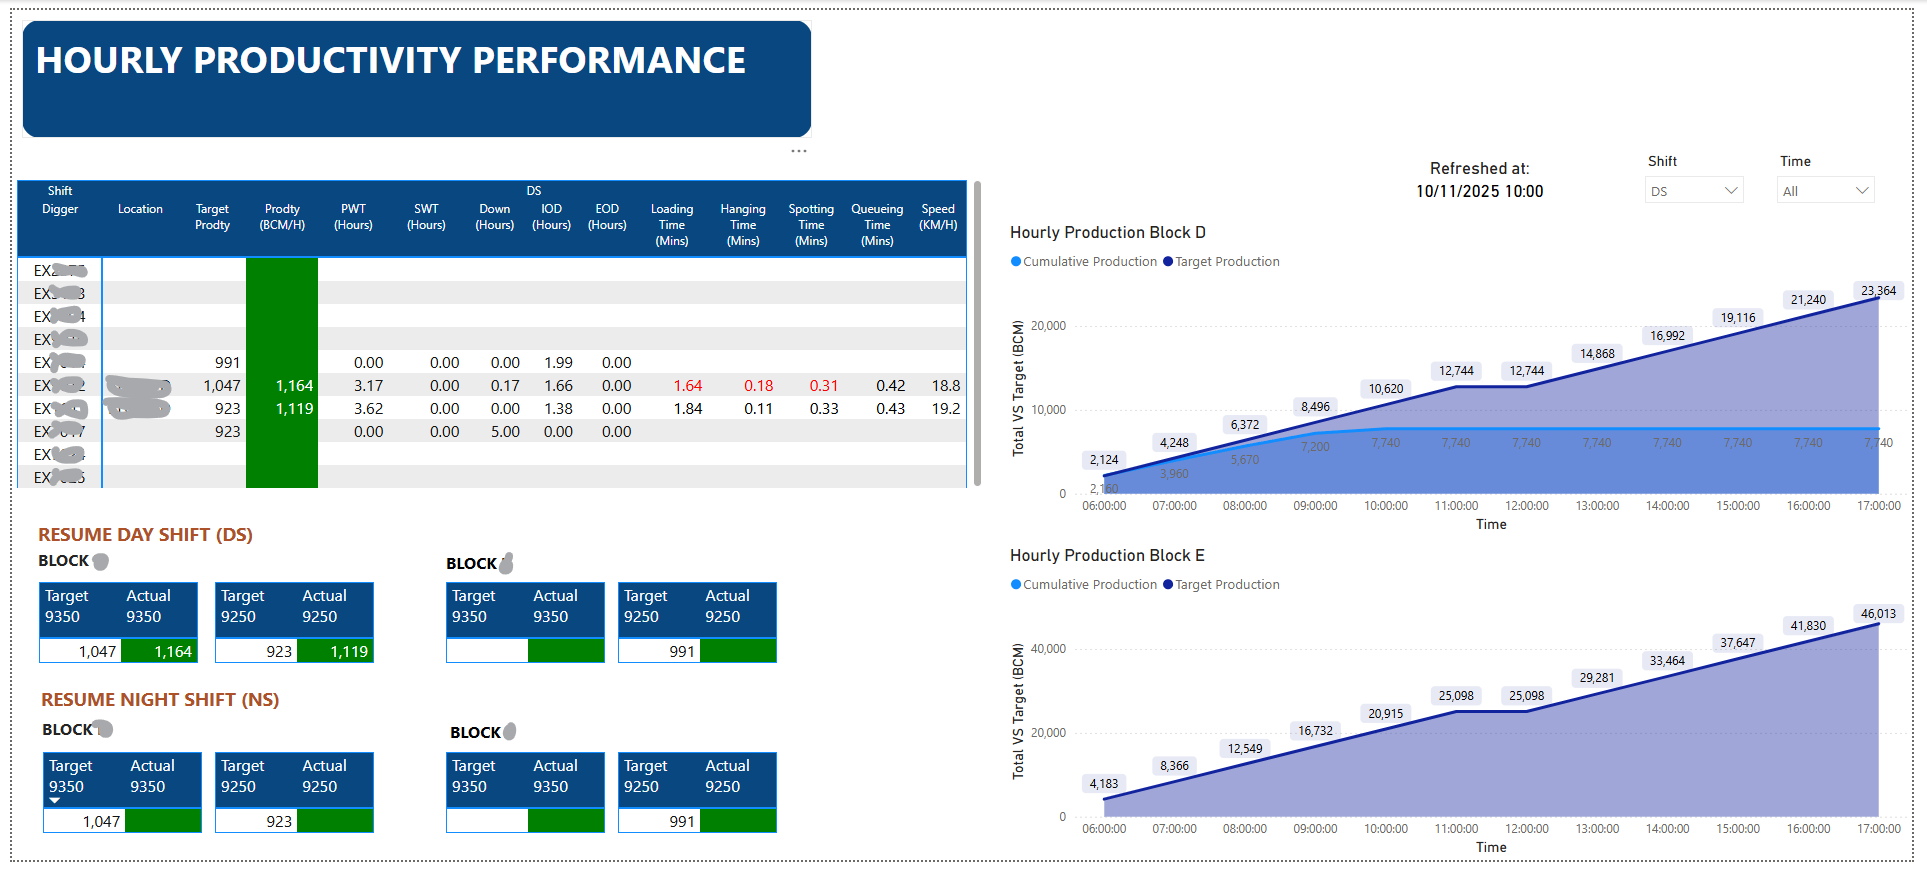

The page's visual inventory and layout, read from the dashboard file:
{"tool":"powerbi","page":{"name":"1.1. SUMMARY PRODUCTIVITY DIGGER PERFORMANCE","canvas":[1900,850],"ordinal":0},"visuals":[{"type":"pivotTable","fields":{"Values":["Max(Thiess_Hourly_Performance.Location)","Sum(Taret_Site_Commercial.Target_Site)","Thiess_Hourly_Performance.PRODTY (BCM/H)","Sum(Thiess_Hourly_Performance.WT)","Sum(Thiess_Hourly_Performance.SWT)","Sum(Thiess_Hourly_Performance.DOWN)","Sum(Thiess_Hourly_Performance.IOD)","Sum(Thiess_Hourly_Performance.EOD)","Thiess_Hourly_Performance.LOADING_TIME (MINS)","Thiess_Hourly_Performance.HANGING_TIME (MINS)","Thiess_Hourly_Performance.SPOTTING_TIME (MINS)","Thiess_Hourly_Performance.QUEUEING_TIME (MINS)"],"Rows":["Bridge_Digger.Digger"],"Columns":["Bridge_Shift.ShiftIdent"]},"box":[0,165,975,318.3],"z":1000},{"type":"textbox","box":[10,10,790,118],"z":2000},{"type":"slicer","fields":{"Values":["Bridge_Shift.ShiftIdent"]},"box":[1623.3,138.3,118.3,70],"z":3000},{"type":"slicer","fields":{"Values":["Bridge_Time.Time"]},"box":[1755,138.3,118.3,70],"z":4000},{"type":"card","title":"Refreshed at:","fields":{"Values":["Max(Thiess_Hourly_Performance.Datetime)"]},"box":[1311.7,148.3,311.7,48.3],"z":5000},{"type":"areaChart","title":"Hourly Production Block D","fields":{"Category":["Bridge_Time.TimeF"],"Y":["Thiess_Hourly_Performance.Cumulative Production","Target_Production.TARGET PROD HOURLY"]},"box":[993.3,211.7,906.7,315],"z":6000},{"type":"areaChart","title":"Hourly Production Block E","fields":{"Category":["Bridge_Time.TimeF"],"Y":["Thiess_Hourly_Performance.Cumulative Production","Target_Production.TARGET PROD HOURLY"]},"box":[993.3,535,906.7,315],"z":7000},{"type":"textbox","box":[20.9,505.9,257.1,37.1],"z":8000},{"type":"tableEx","fields":{"Values":["Avg(Taret_Site_Commercial.Target_Site)","Thiess_Hourly_Performance.PRODTY (BCM/H)"]},"box":[20.9,567.3,172.9,105.7],"z":9000},{"type":"textbox","box":[24.3,670.9,311.7,38.3],"z":10000},{"type":"textbox","box":[20.9,533.8,101.2,33.8],"z":11000},{"type":"textbox","box":[428.8,536.8,242.9,35.7],"z":12000},{"type":"textbox","box":[24.8,702.8,101.2,33.8],"z":13000},{"type":"textbox","box":[432.6,705.8,242.9,35.7],"z":14000},{"type":"tableEx","fields":{"Values":["Avg(Taret_Site_Commercial.Target_Site)","Thiess_Hourly_Performance.PRODTY (BCM/H)"]},"box":[196.7,566.7,171.7,106.7],"z":15000},{"type":"tableEx","fields":{"Values":["Avg(Taret_Site_Commercial.Target_Site)","Thiess_Hourly_Performance.PRODTY (BCM/H)"]},"box":[25,736.7,171.7,106.7],"z":16000},{"type":"tableEx","fields":{"Values":["Avg(Taret_Site_Commercial.Target_Site)","Thiess_Hourly_Performance.PRODTY (BCM/H)"]},"box":[196.7,736.7,171.7,106.7],"z":17000},{"type":"tableEx","fields":{"Values":["Avg(Taret_Site_Commercial.Target_Site)","Thiess_Hourly_Performance.PRODTY (BCM/H)"]},"box":[428.3,566.7,171.7,106.7],"z":18000},{"type":"tableEx","fields":{"Values":["Avg(Taret_Site_Commercial.Target_Site)","Thiess_Hourly_Performance.PRODTY (BCM/H)"]},"box":[600,566.7,171.7,106.7],"z":19000},{"type":"tableEx","fields":{"Values":["Avg(Taret_Site_Commercial.Target_Site)","Thiess_Hourly_Performance.PRODTY (BCM/H)"]},"box":[428.3,736.7,171.7,106.7],"z":20000},{"type":"tableEx","fields":{"Values":["Avg(Taret_Site_Commercial.Target_Site)","Thiess_Hourly_Performance.PRODTY (BCM/H)"]},"box":[600,736.7,171.7,106.7],"z":21000}]}

Visuals, with their boxes in screenshot pixels (x1, y1, x2, y2), scaled from the page's 1900x850 canvas onto the 1927x874 screenshot:
pivotTable - Max(Thiess_Hourly_Performance.Location) x Sum(Taret_Site_Commercial.Target_Site): rect(0, 170, 989, 497)
textbox: rect(10, 10, 811, 132)
slicer - Bridge_Shift.ShiftIdent: rect(1646, 142, 1766, 214)
slicer - Bridge_Time.Time: rect(1780, 142, 1900, 214)
"Refreshed at:" card: rect(1330, 152, 1646, 202)
"Hourly Production Block D" areaChart: rect(1007, 218, 1926, 542)
"Hourly Production Block E" areaChart: rect(1007, 550, 1926, 873)
textbox: rect(21, 520, 282, 558)
tableEx - Avg(Taret_Site_Commercial.Target_Site) x Thiess_Hourly_Performance.PRODTY (BCM/H): rect(21, 583, 197, 692)
textbox: rect(25, 690, 341, 729)
textbox: rect(21, 549, 124, 584)
textbox: rect(435, 552, 681, 589)
textbox: rect(25, 723, 128, 757)
textbox: rect(439, 726, 685, 762)
tableEx - Avg(Taret_Site_Commercial.Target_Site) x Thiess_Hourly_Performance.PRODTY (BCM/H): rect(199, 583, 374, 692)
tableEx - Avg(Taret_Site_Commercial.Target_Site) x Thiess_Hourly_Performance.PRODTY (BCM/H): rect(25, 758, 199, 867)
tableEx - Avg(Taret_Site_Commercial.Target_Site) x Thiess_Hourly_Performance.PRODTY (BCM/H): rect(199, 758, 374, 867)
tableEx - Avg(Taret_Site_Commercial.Target_Site) x Thiess_Hourly_Performance.PRODTY (BCM/H): rect(434, 583, 609, 692)
tableEx - Avg(Taret_Site_Commercial.Target_Site) x Thiess_Hourly_Performance.PRODTY (BCM/H): rect(609, 583, 783, 692)
tableEx - Avg(Taret_Site_Commercial.Target_Site) x Thiess_Hourly_Performance.PRODTY (BCM/H): rect(434, 758, 609, 867)
tableEx - Avg(Taret_Site_Commercial.Target_Site) x Thiess_Hourly_Performance.PRODTY (BCM/H): rect(609, 758, 783, 867)
